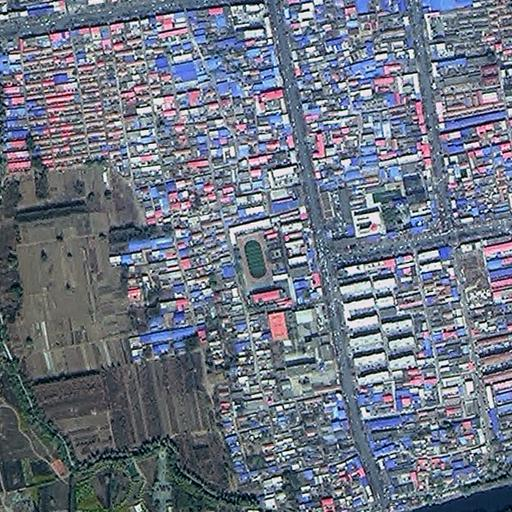school: (228, 215, 294, 308)
